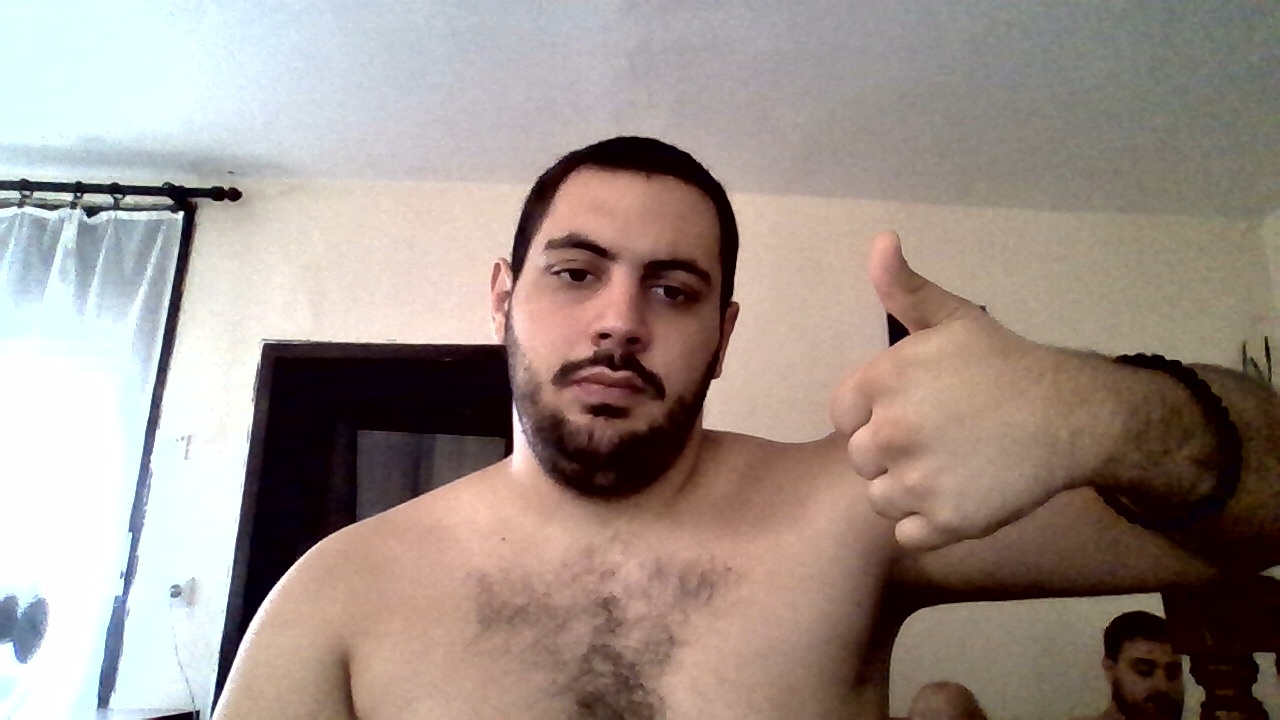like: (835, 230, 1023, 553)
